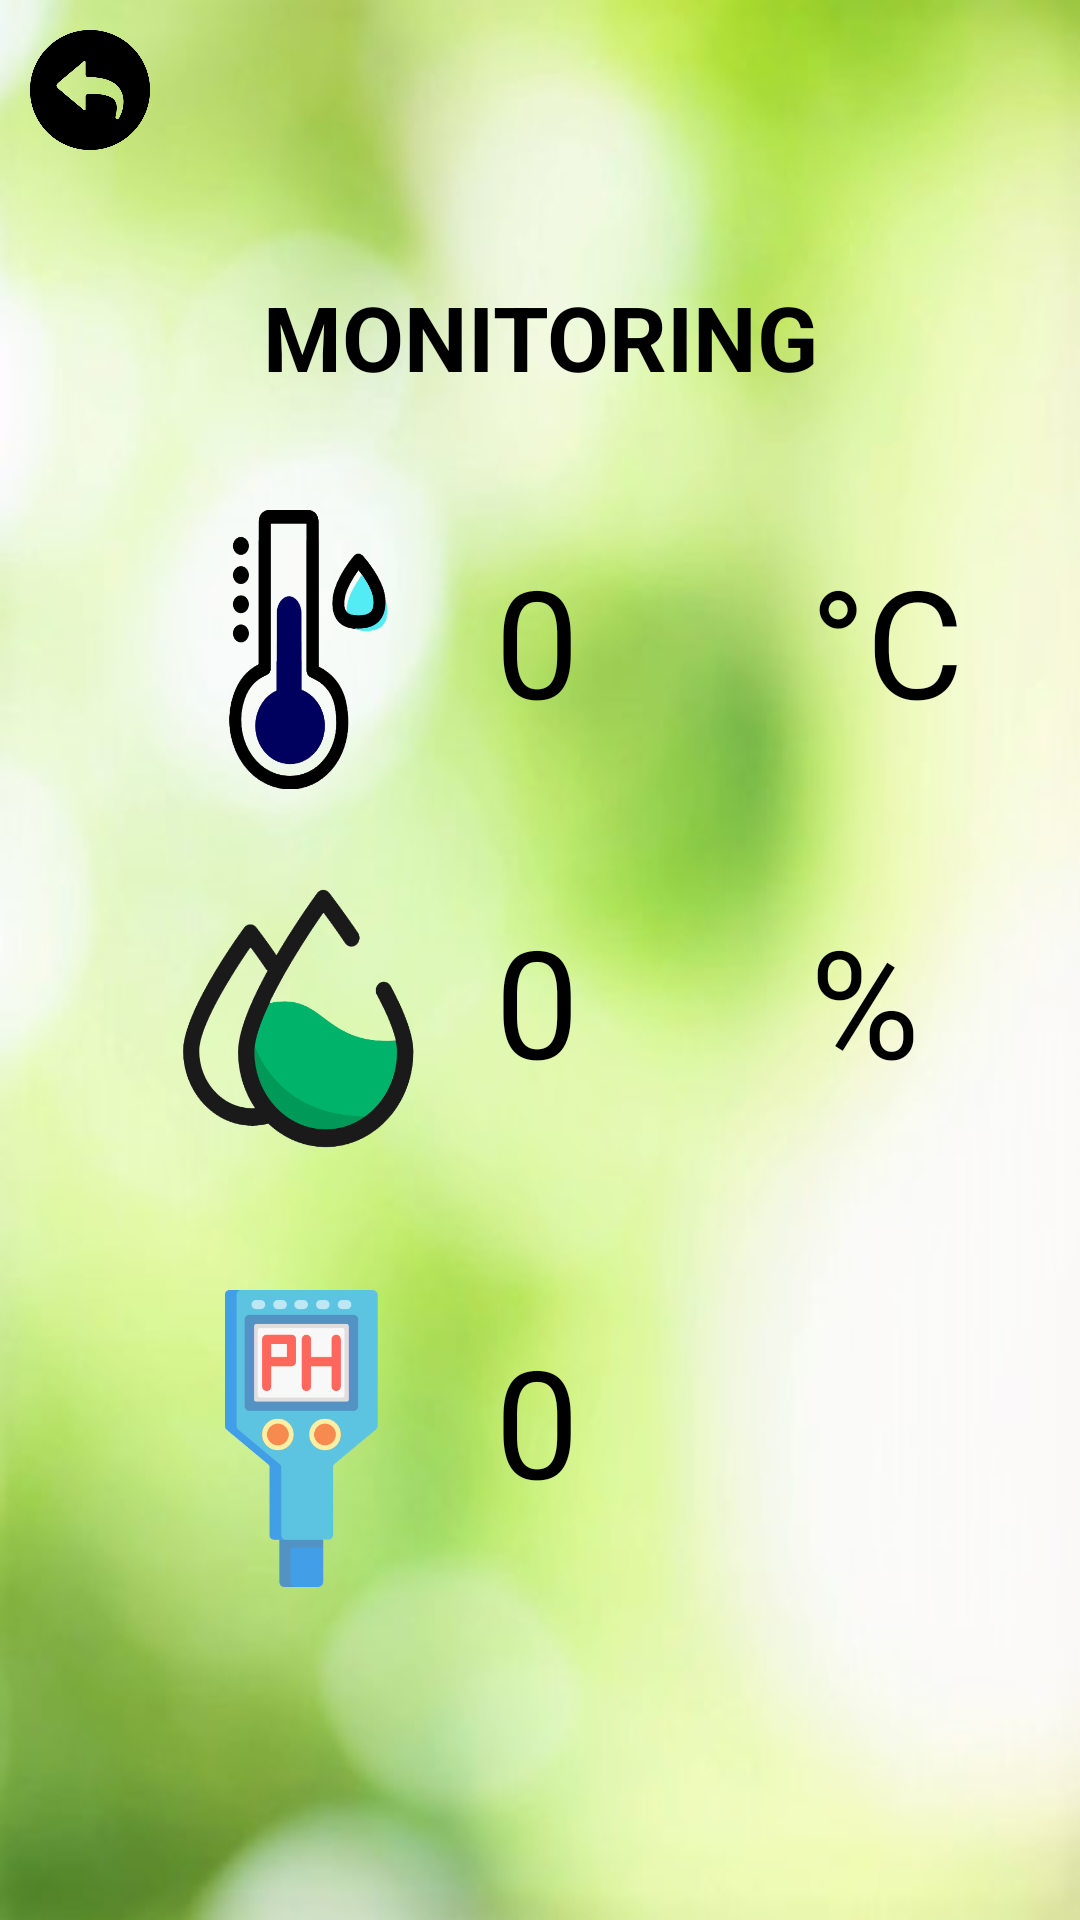

Screen size 1080*1920. Icon name, then its center in pixels as (x=x, y=y):
back: (x=90, y=90)
suhu: (x=295, y=649)
